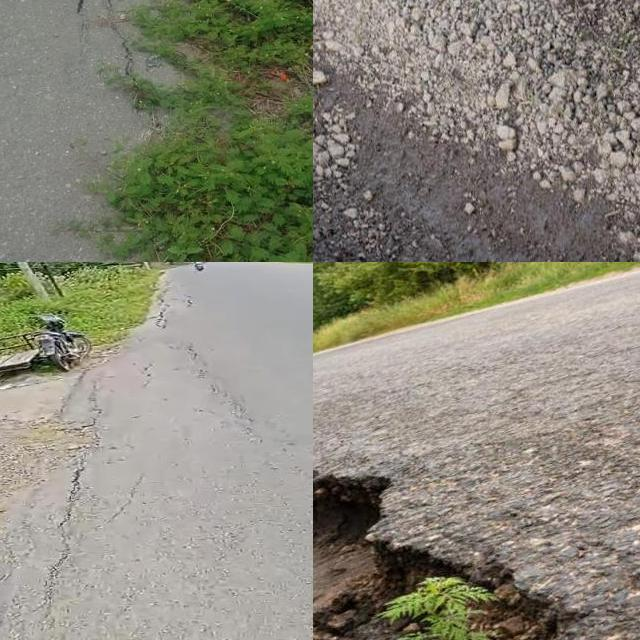Pinggir: (313, 8, 640, 262), (313, 411, 631, 640), (0, 393, 129, 640), (59, 0, 263, 84)
